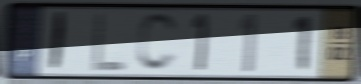1: (291, 14, 313, 73), (238, 11, 258, 75), (190, 11, 210, 74)
C: (134, 10, 181, 74)
I: (47, 9, 69, 73)
L: (90, 10, 128, 74)
